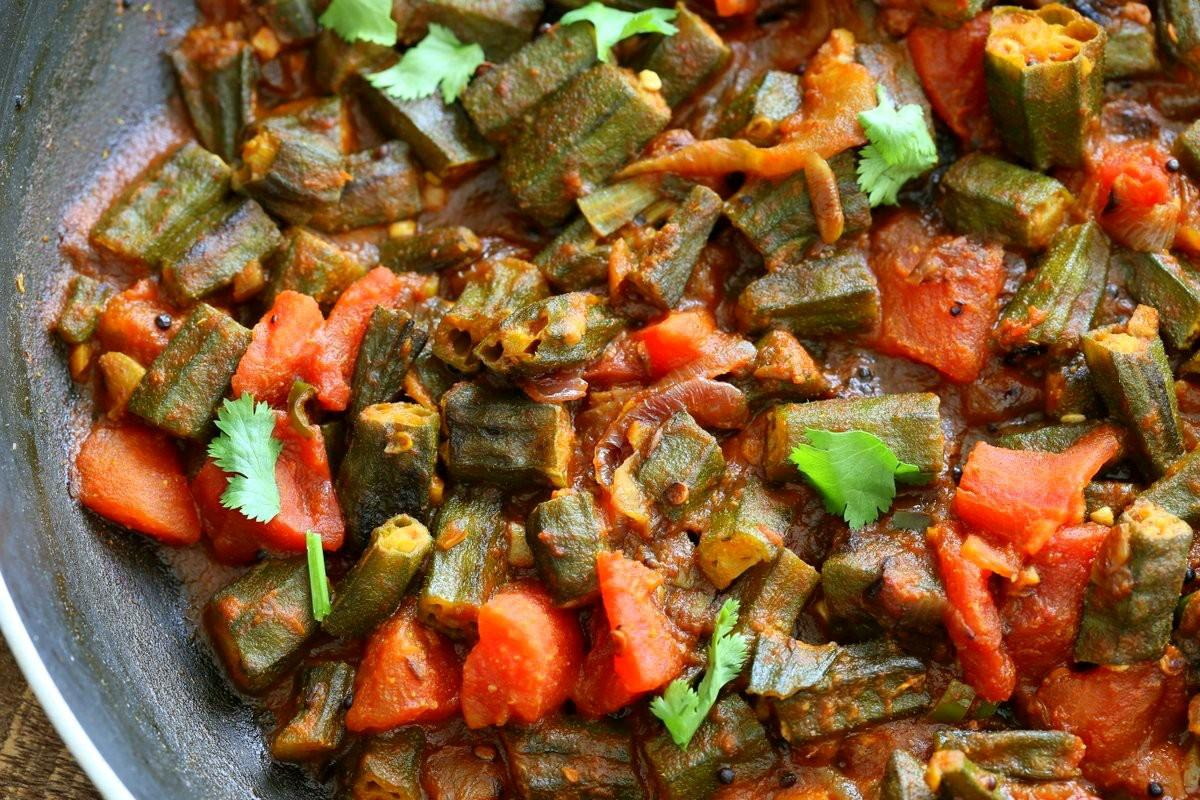BhindiMasala: (45, 0, 1200, 800)
